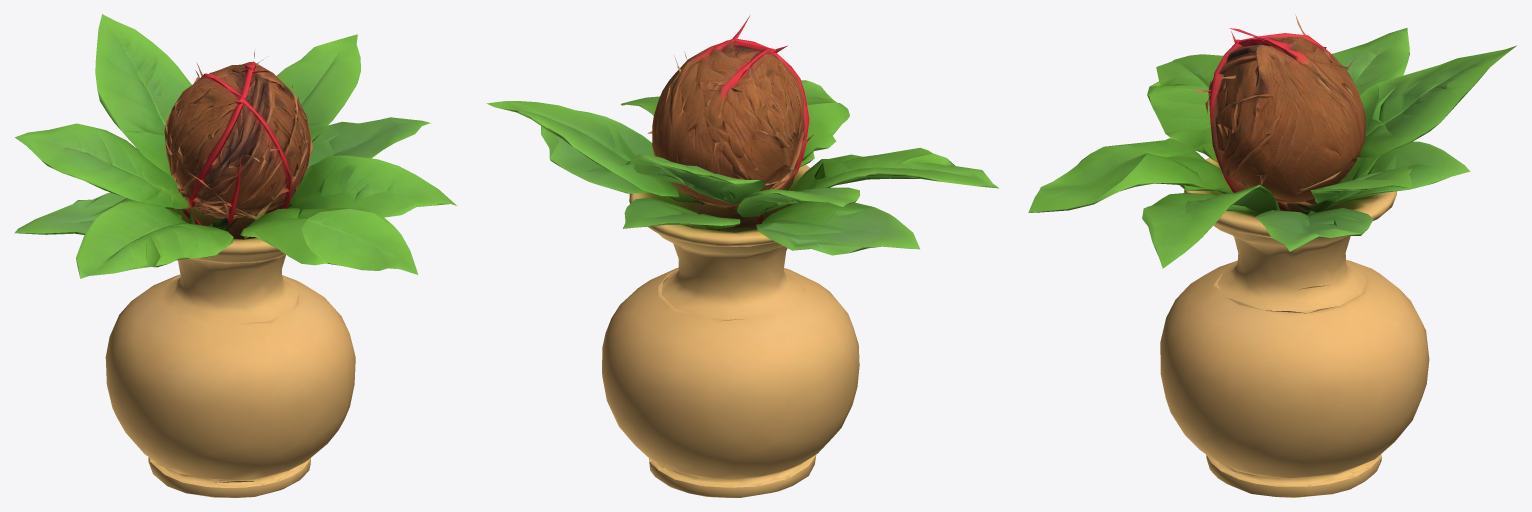
Rendered from kalash.glb.
The picture shows the model from 3 angles, left to right: view 1: azimuth 30°, elevation 25°; view 2: azimuth 150°, elevation 25°; view 3: azimuth 270°, elevation 25°; orthographic projection. The views are drawn at different scales.
Parts seen in each view (by area): view 1: ai_kalash; view 2: ai_kalash; view 3: ai_kalash.
Boxes of the visible parts, x1,y1,x2,y2 form: ai_kalash: [14, 14, 456, 497]; ai_kalash: [486, 16, 998, 497]; ai_kalash: [1028, 14, 1516, 497].
Bounding box in the file's own units: 0.3082 × 0.3 × 0.3023.
1 material, 1 textured.
